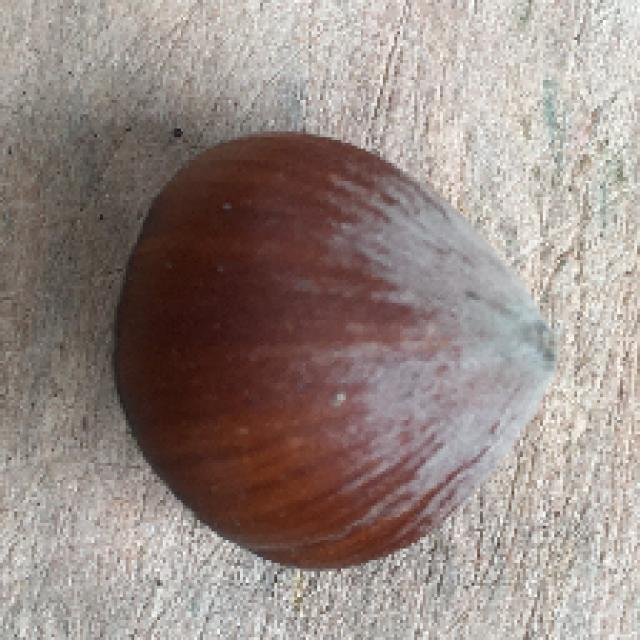qualityHazelnut: (103, 117, 563, 576)
